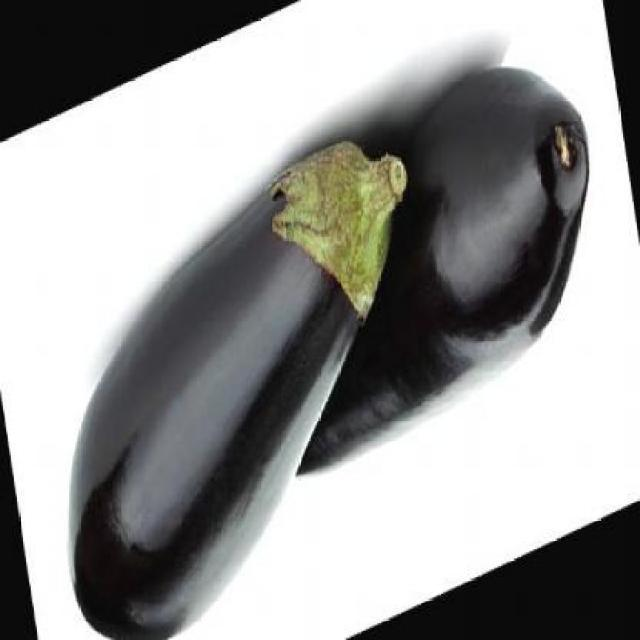eggplant: (62, 111, 422, 640), (247, 26, 618, 489)
